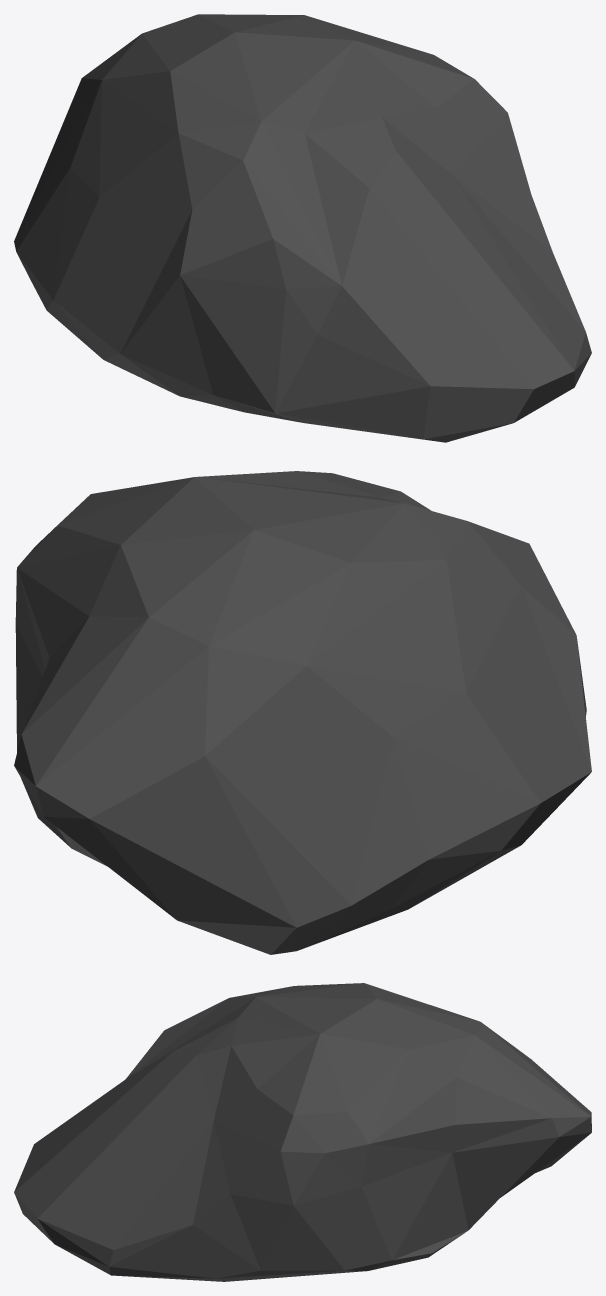
Rendered from 2020-09-08 WorldObjects.fbx_Rock2.fbx.
The picture shows the model from 3 angles, top to bottom: view 1: azimuth 30°, elevation 25°; view 2: azimuth 150°, elevation 25°; view 3: azimuth 270°, elevation 25°; orthographic projection. The views are drawn at different scales.
Visible parts, largest first — view 1: Rock2; view 2: Rock2; view 3: Rock2.
Boxes of the visible parts, <box> form: Rock2: <box>14,14,591,442</box>; Rock2: <box>14,471,591,954</box>; Rock2: <box>14,983,591,1281</box>.
Size of the model in its own units: 5.77 by 3.25 by 8.25.
